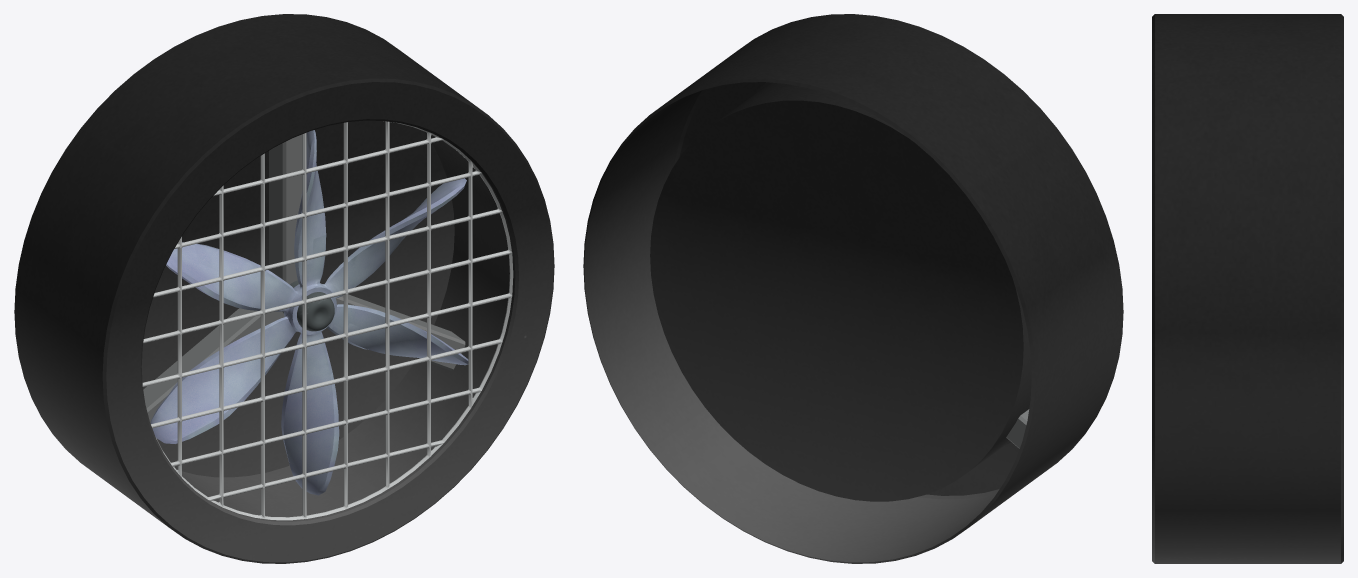
File: Bridge_Vent.fbx
The picture shows the model from 3 angles, left to right: view 1: azimuth 30°, elevation 25°; view 2: azimuth 150°, elevation 25°; view 3: azimuth 270°, elevation 25°; orthographic projection. The views are drawn at different scales.
Visible parts, largest first — view 1: Vent, Vent_Propeller, Vent_Bars, Vent_Holder, Vent_Top; view 2: Vent; view 3: Vent.
Boxes of the visible parts, left/top/right/bottom form: Vent: left=14, top=14, right=554, bottom=563; Vent_Propeller: left=150, top=130, right=468, bottom=495; Vent_Bars: left=142, top=121, right=513, bottom=520; Vent_Holder: left=143, top=134, right=465, bottom=422; Vent_Top: left=282, top=280, right=334, bottom=331; Vent: left=583, top=14, right=1123, bottom=563; Vent: left=1152, top=14, right=1343, bottom=563.
Size of what is drawn, in the model's own units: 461 by 461 by 161.
